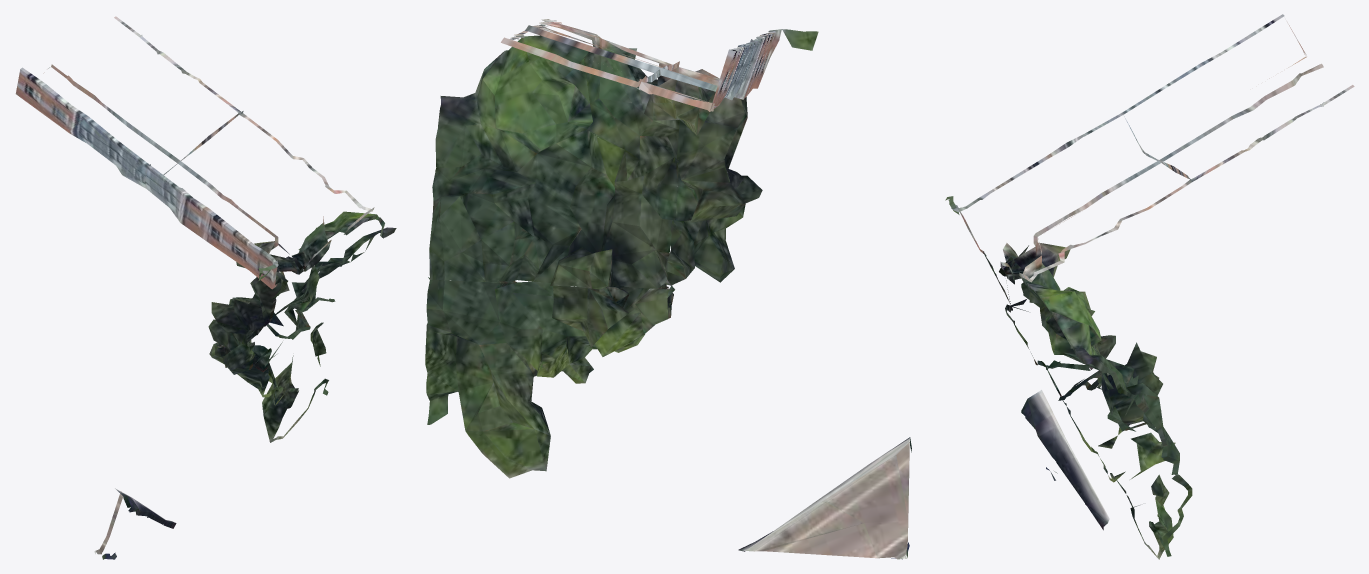
The model's file is AJVsH2wD_QjjuDbt0ClvEqMRmmz7epSAr7Iy0AYYQiPxWx4gaO5a6BNMA65-Eoeqmxg4_bmrVwrjX8Uj6x0V-gVUiWd-HrRwqPvNVSgzvC201FfqO-Wcb-qibxYyAYh2YU_YTq6pbBxL78L7Yl9ILHp51F9d.glb.
3 views of the same model, side by side, from view 1: azimuth 30°, elevation 25°; view 2: azimuth 150°, elevation 25°; view 3: azimuth 270°, elevation 25° (orthographic). The views are drawn at different scales.
Size of the model in its own units: 38.18 by 49.87 by 38.76.
1 material, 1 textured.
